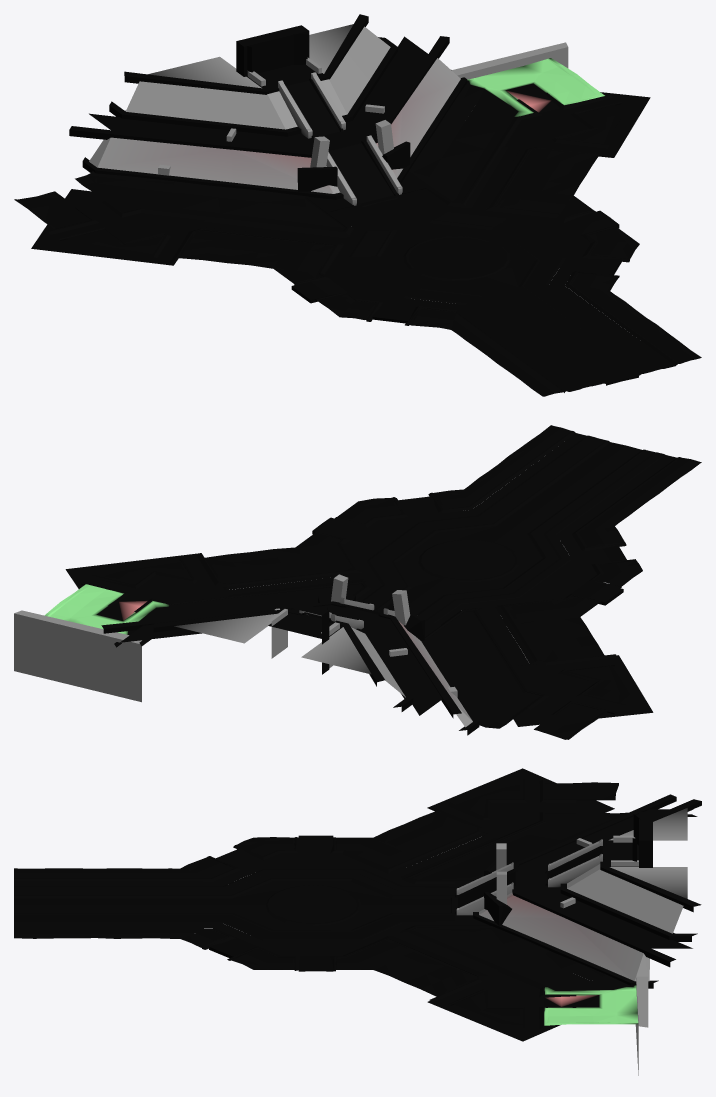
The model's file is SM_ENV_LKNVLD_Ground_COL.gltf.
3 views of the same model, one above another, from view 1: azimuth 30°, elevation 25°; view 2: azimuth 150°, elevation 25°; view 3: azimuth 270°, elevation 25° (orthographic). The views are drawn at different scales.
Parts seen in each view (by area): view 1: SM_ENV_LKNVLD_Ground_COL; view 2: SM_ENV_LKNVLD_Ground_COL; view 3: SM_ENV_LKNVLD_Ground_COL.
Part boxes in pixels (box(x1,y1,x2,y2)): SM_ENV_LKNVLD_Ground_COL: box(14, 14, 701, 396); SM_ENV_LKNVLD_Ground_COL: box(14, 425, 701, 739); SM_ENV_LKNVLD_Ground_COL: box(14, 768, 701, 1075).
Bounding box in the file's own units: 140 × 30.36 × 149.
